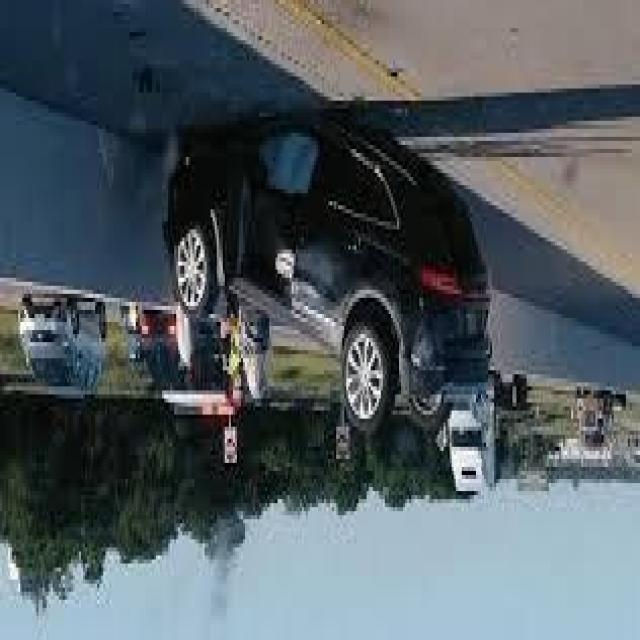severe: (163, 98, 495, 440)
